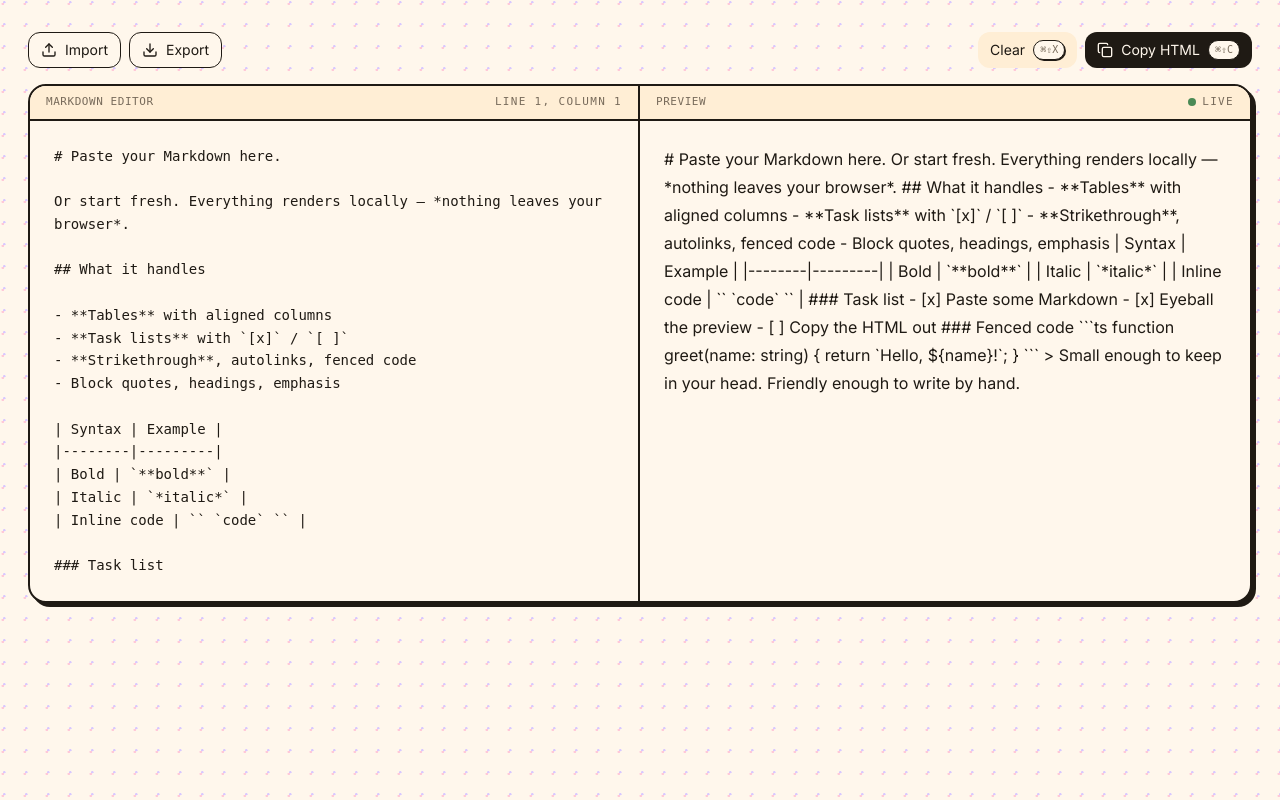
Test case: MarkdownPreviewRoute › handles parse error gracefully
The width and height of the screenshot is (1280, 800).
Step 1. Replace the text in the text box with placeholder "# Hello World Type your markdown here..." with "bad content" → (334, 360), box [30,120,638,600]
Wait 300 ms
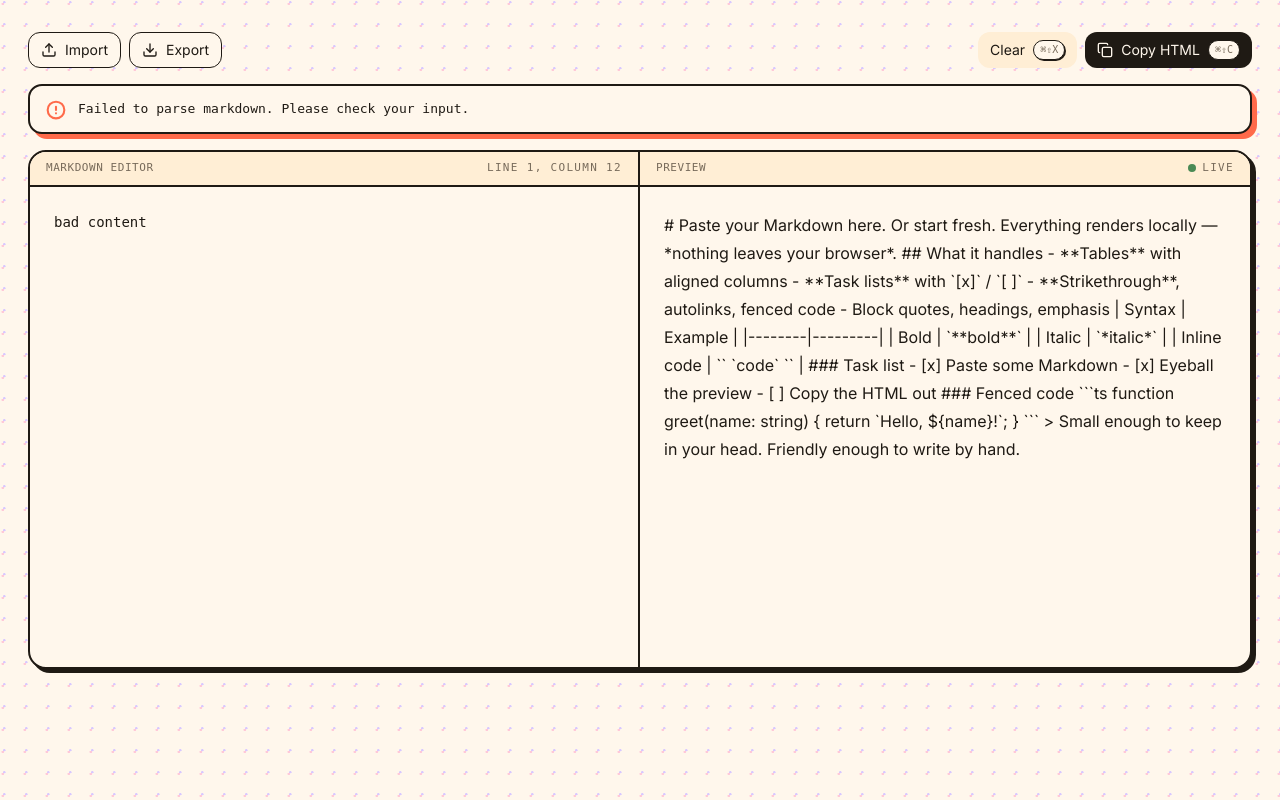
Expected: the text "Failed to parse markdown. Please check your input." is shown, [78,101,469,116]
